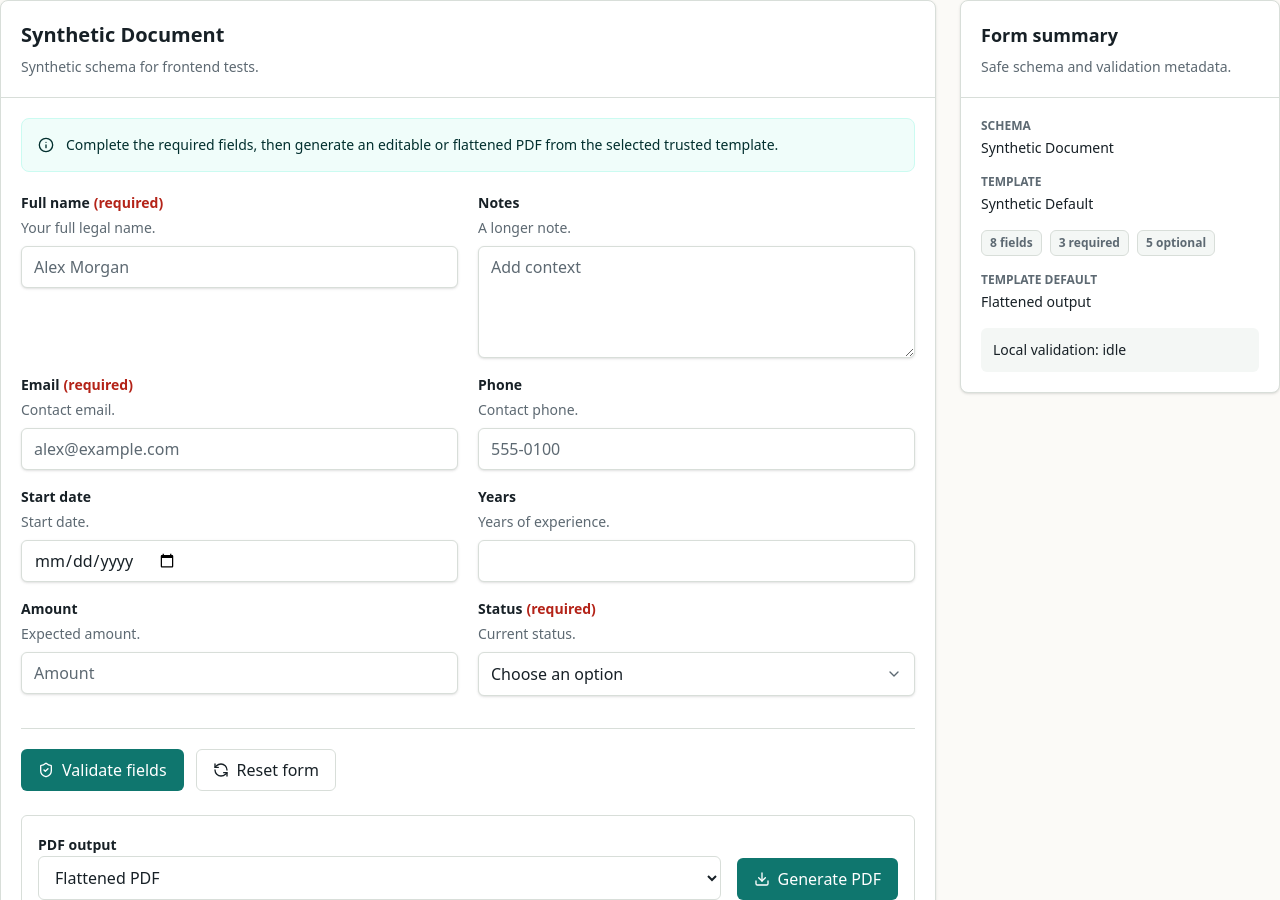
DynamicDocumentForm › does not generate when local validation fails
Click the button "Generate PDF" at (817, 879), box [736, 858, 898, 899]
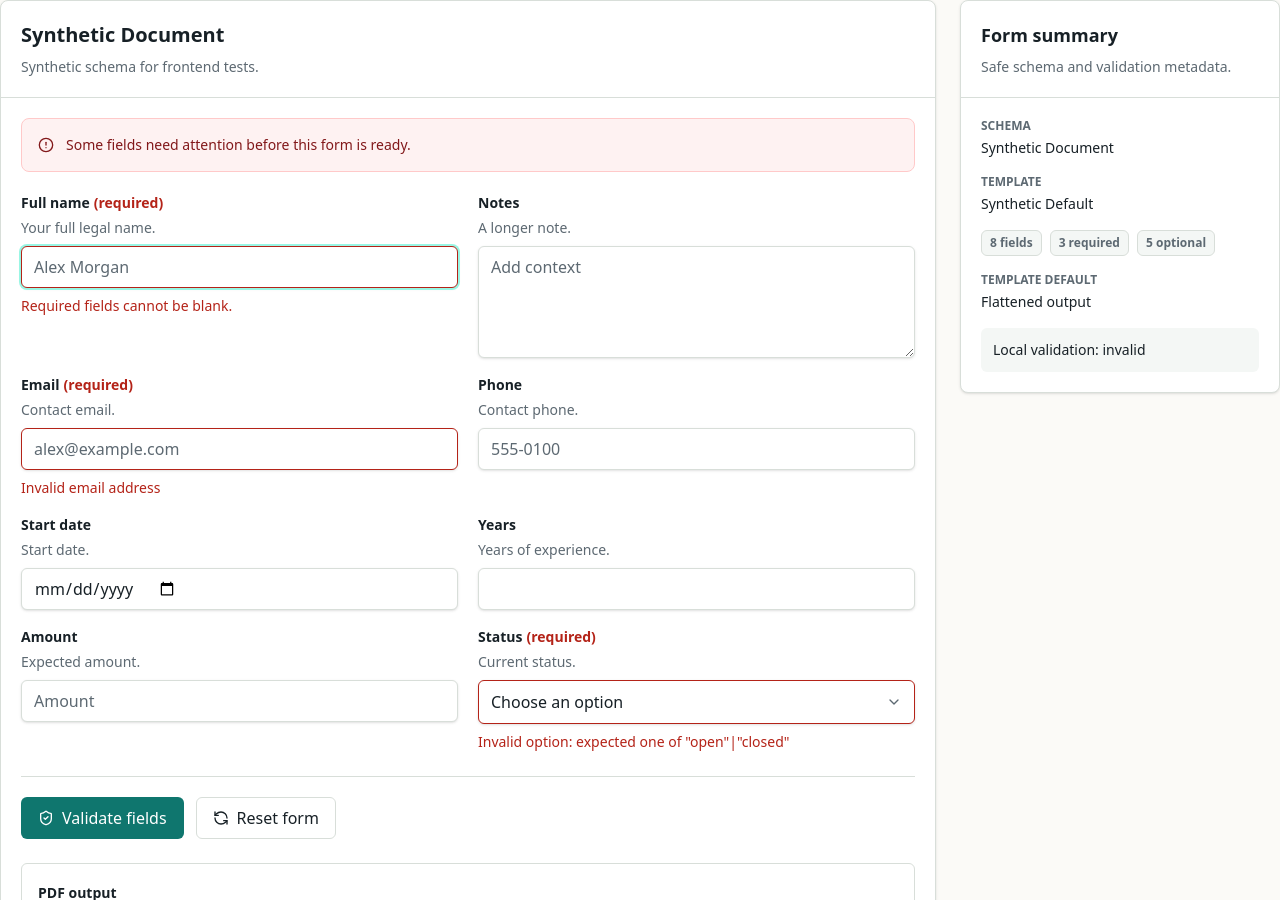
Check: the text "Some fields need attention before this form is ready." is shown, box [66, 135, 411, 155]
